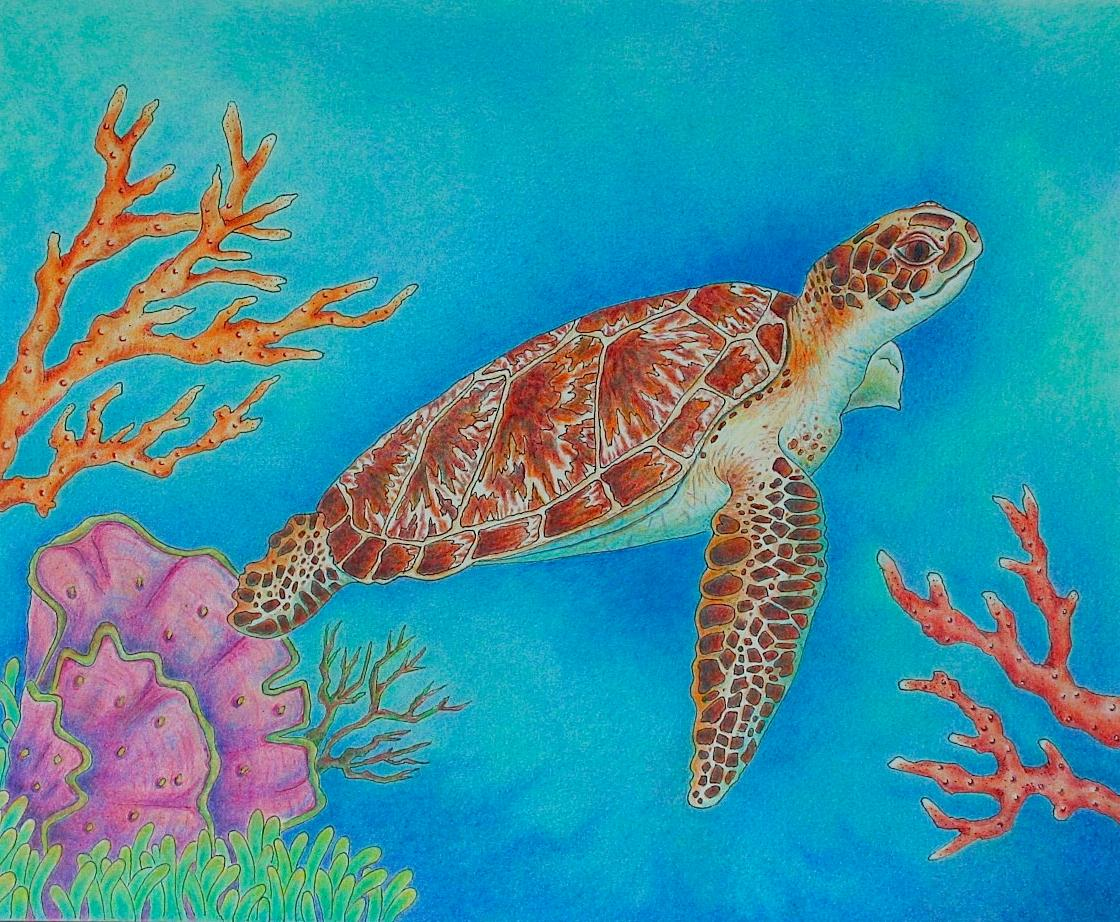turtle: (805, 192, 990, 344)
